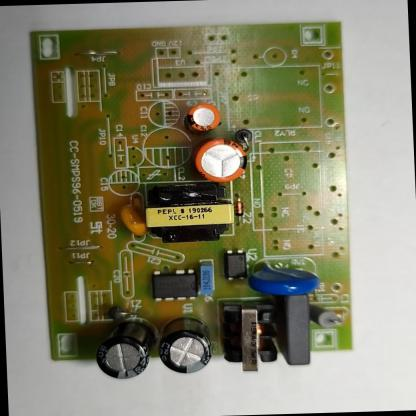Cap1: (194, 136, 249, 184)
Cap2: (188, 100, 223, 132)
Cap3: (157, 314, 215, 376)
Cap4: (94, 319, 158, 381)
MOSFET: (153, 267, 199, 302)
Mov: (245, 259, 322, 297)
Resistor: (309, 302, 341, 330)
Transformer: (144, 181, 235, 246), (221, 303, 280, 376)
